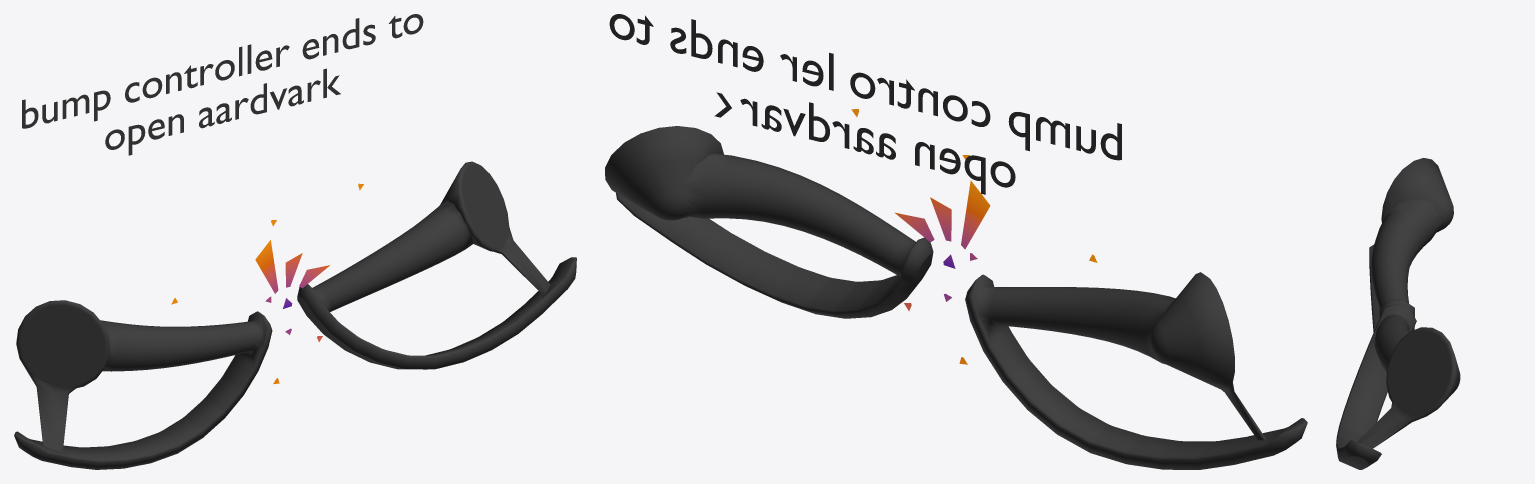
The model's file is controller_Infographic.glb.
3 renders of one model, left to right at view 1: azimuth 30°, elevation 25°; view 2: azimuth 150°, elevation 25°; view 3: azimuth 270°, elevation 25°, orthographic. The views are drawn at different scales.
Parts seen in each view (by area): view 1: Sphere.001; view 2: Sphere.001; view 3: Sphere.001.
Part boxes in pixels (bbox=[...]): Sphere.001: bbox=[14, 14, 576, 469]; Sphere.001: bbox=[605, 14, 1307, 469]; Sphere.001: bbox=[1336, 158, 1460, 469].
Size of the model in its own units: 3.39 by 1.92 by 1.02.
2 materials, 1 textured.
